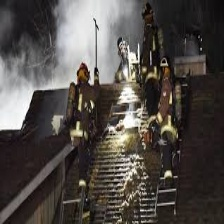smoke: (56, 3, 94, 63), (2, 63, 26, 125)
